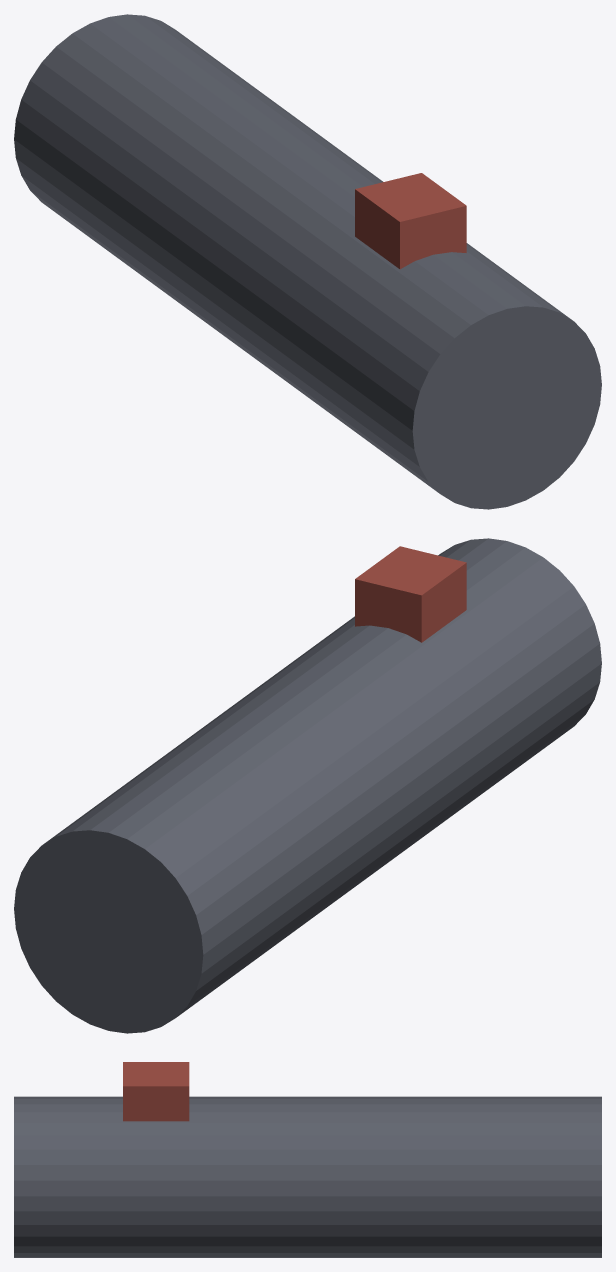
File: SU_MorokSubmarine_LOD0.glb
The picture shows the model from 3 angles, top to bottom: view 1: azimuth 30°, elevation 25°; view 2: azimuth 150°, elevation 25°; view 3: azimuth 270°, elevation 25°; orthographic projection. The views are drawn at different scales.
Parts seen in each view (by area): view 1: Cylinder, Cube; view 2: Cylinder, Cube; view 3: Cylinder, Cube.
Boxes of the visible parts, x1,y1,x2,y2 form: Cylinder: (14,14,601,509); Cube: (355,173,466,269); Cylinder: (14,538,601,1033); Cube: (355,546,466,642); Cylinder: (14,1096,601,1257); Cube: (123,1062,189,1121).
Size of what is drawn, in the model's own units: 1.7 by 2.05 by 6.2.
